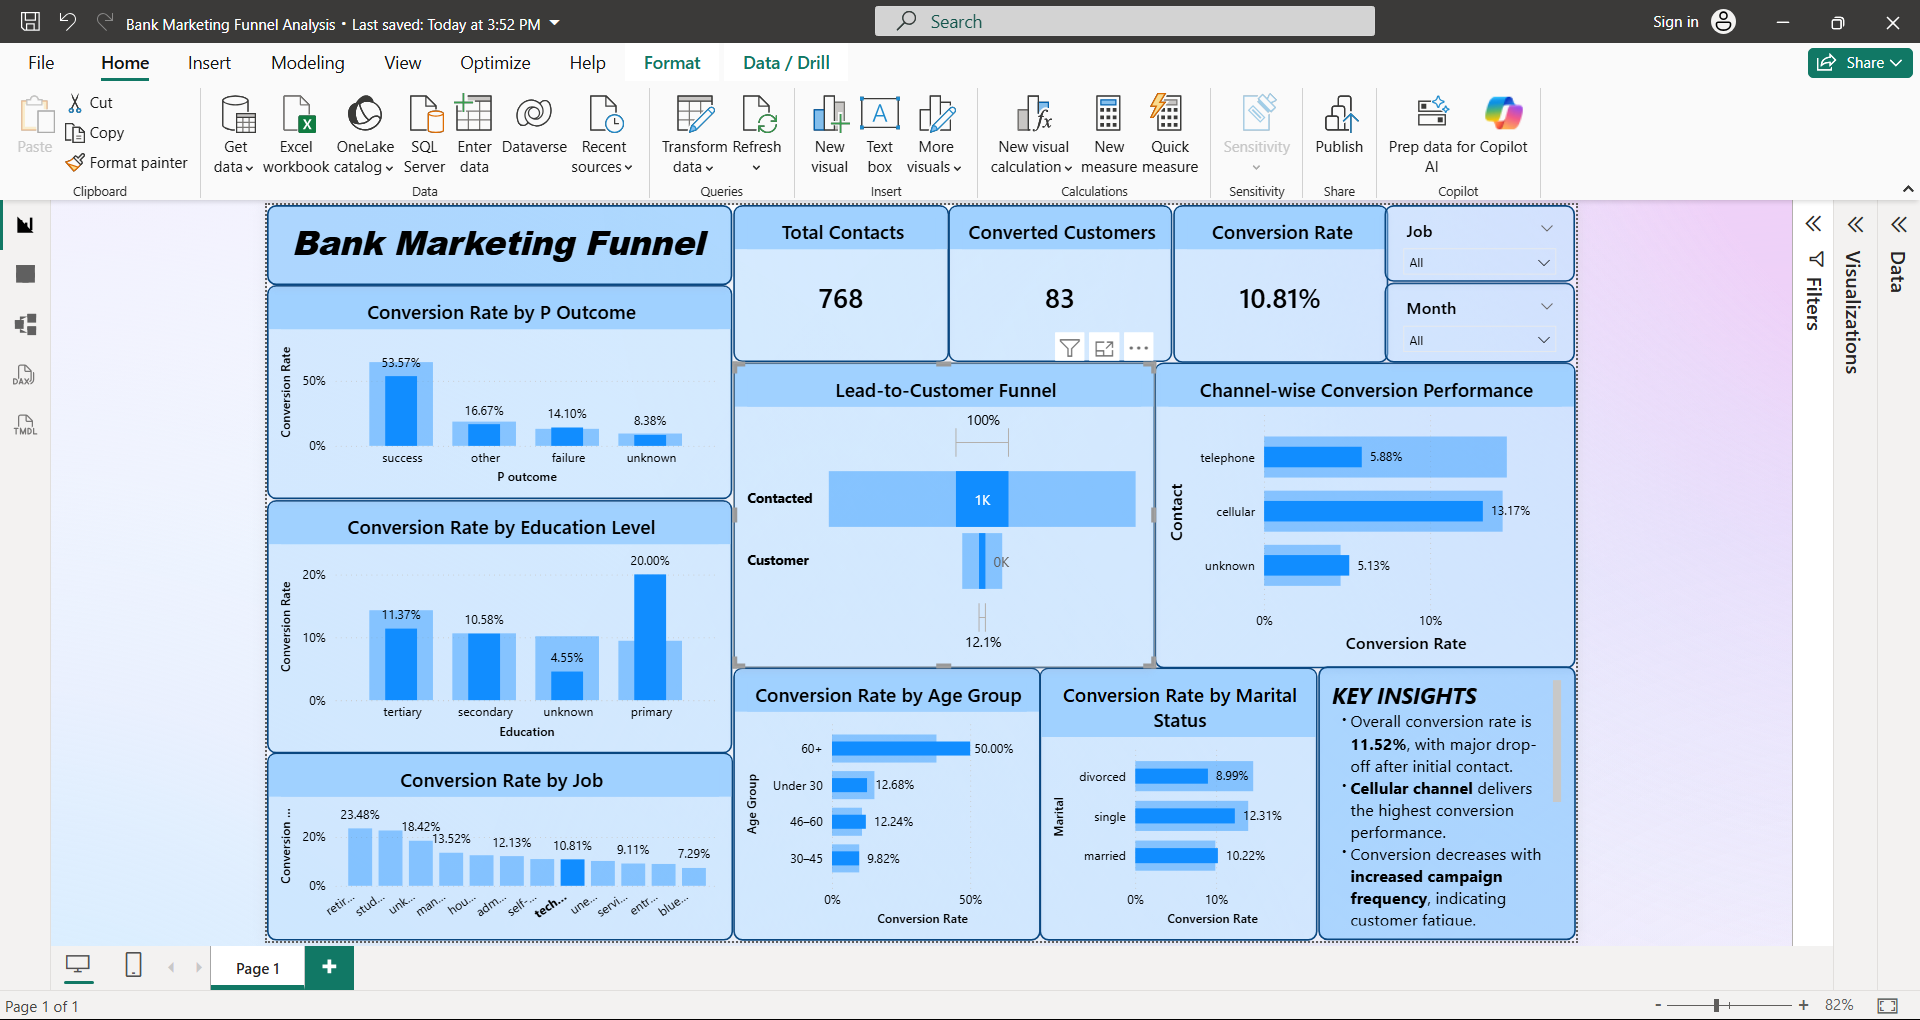

Layout of this report page (visuals, bound fields, positions):
{"tool":"powerbi","page":{"name":"Page 1","canvas":[1280,720],"ordinal":0},"visuals":[{"type":"card","title":"Total Contacts","fields":{"Values":["Cleaned_Bank_data.Total Contacts"]},"box":[455.6,0,211.3,153.7],"z":0},{"type":"card","title":"Converted Customers","fields":{"Values":["Cleaned_Bank_data.Total Customers"]},"box":[666.9,0,219.6,153.7],"z":1000},{"type":"card","title":"Conversion Rate","fields":{"Values":["Cleaned_Bank_data.Conversion Rate"]},"box":[886.6,0,210.3,154.1],"z":2000},{"type":"funnel","title":"Lead-to-Customer Funnel","fields":{"Y":["Cleaned_Bank_data.Funnel Count"],"Category":["Cleaned_Bank_data.Funnel Stage"]},"box":[455.6,153.7,413,299.1],"z":3000},{"type":"clusteredBarChart","title":"Channel-wise Conversion Performance","fields":{"Category":["Cleaned_Bank_data.Contact"],"Y":["Cleaned_Bank_data.Conversion Rate"]},"box":[868.6,153.7,411.7,299.1],"z":4000},{"type":"slicer","fields":{"Values":["Cleaned_Bank_data.Month"]},"box":[1093.7,75.5,186.6,78.2],"z":5000},{"type":"slicer","fields":{"Values":["Cleaned_Bank_data.Job"]},"box":[1093.7,0,186.6,75.5],"z":6000},{"type":"clusteredBarChart","title":"Conversion Rate by Marital Status","fields":{"Category":["Cleaned_Bank_data.Marital"],"Y":["Cleaned_Bank_data.Conversion Rate"]},"box":[756.1,452.8,271.7,267.6],"z":7000},{"type":"clusteredColumnChart","title":"Conversion Rate by Education Level","fields":{"Category":["Cleaned_Bank_data.Education"],"Y":["Cleaned_Bank_data.Conversion Rate"]},"box":[0,288.2,455.6,248.4],"z":8000},{"type":"clusteredBarChart","fields":{"Category":["Cleaned_Bank_data.Age Group"],"Y":["Cleaned_Bank_data.Conversion Rate"]},"box":[455.6,452.8,300.5,267.6],"z":9000},{"type":"clusteredColumnChart","title":"Conversion Rate by P Outcome","fields":{"Y":["Cleaned_Bank_data.Conversion Rate"],"Category":["Cleaned_Bank_data.P out Come"]},"box":[0,78.2,455.6,209.9],"z":10000},{"type":"textbox","title":"Bank Marketing Funnel","box":[0,0,455.6,78.2],"z":11000},{"type":"clusteredColumnChart","fields":{"Category":["Cleaned_Bank_data.Job"],"Y":["Cleaned_Bank_data.Conversion Rate"]},"box":[0,536,456,184],"z":12000},{"type":"textbox","box":[1028.4,451.2,251.9,267.8],"z":13000}]}

Visuals, with their boxes on the page's 1280x720 design canvas (x1, y1, x2, y2). These are canvas units, not pixel positions in the 1920x1020 screenshot, which may show the page scaled, cropped or inside an application window:
"Total Contacts" card: box(456, 0, 667, 154)
"Converted Customers" card: box(667, 0, 886, 154)
"Conversion Rate" card: box(887, 0, 1097, 154)
"Lead-to-Customer Funnel" funnel: box(456, 154, 869, 453)
"Channel-wise Conversion Performance" clusteredBarChart: box(869, 154, 1280, 453)
slicer - Cleaned_Bank_data.Month: box(1094, 76, 1280, 154)
slicer - Cleaned_Bank_data.Job: box(1094, 0, 1280, 76)
"Conversion Rate by Marital Status" clusteredBarChart: box(756, 453, 1028, 720)
"Conversion Rate by Education Level" clusteredColumnChart: box(0, 288, 456, 537)
clusteredBarChart - Cleaned_Bank_data.Age Group x Cleaned_Bank_data.Conversion Rate: box(456, 453, 756, 720)
"Conversion Rate by P Outcome" clusteredColumnChart: box(0, 78, 456, 288)
"Bank Marketing Funnel" textbox: box(0, 0, 456, 78)
clusteredColumnChart - Cleaned_Bank_data.Job x Cleaned_Bank_data.Conversion Rate: box(0, 536, 456, 720)
textbox: box(1028, 451, 1280, 719)
